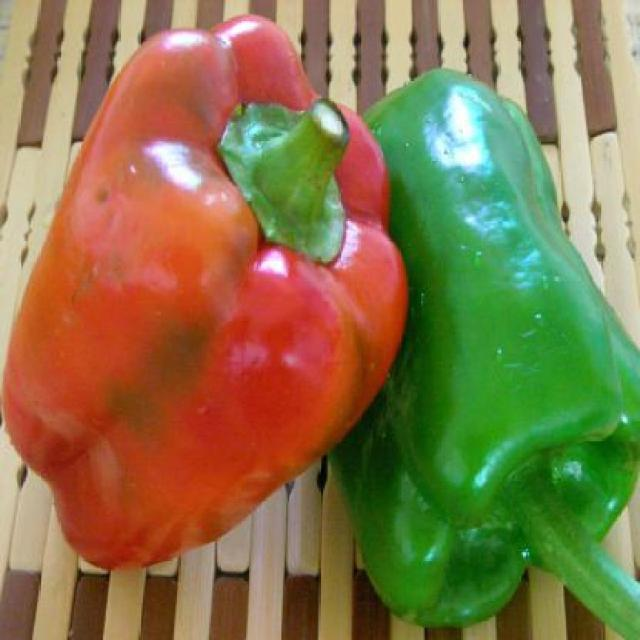Bell pepper: (2, 13, 407, 576), (326, 66, 640, 640), (326, 66, 640, 640)
